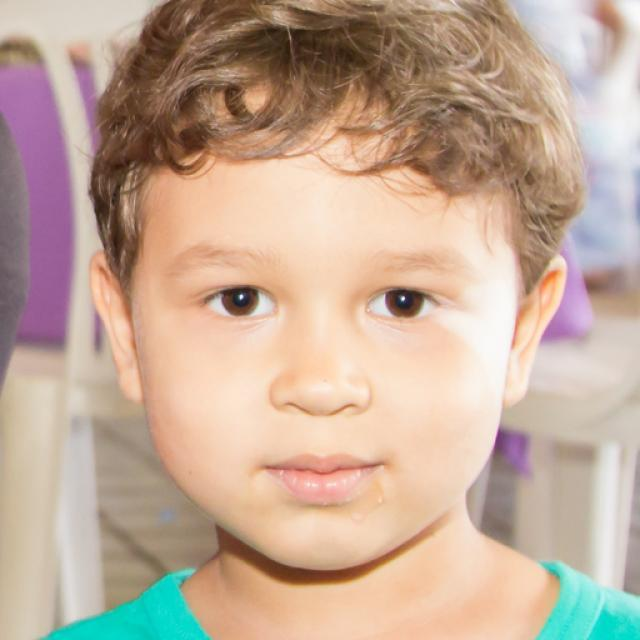neutral: (133, 73, 518, 570)
